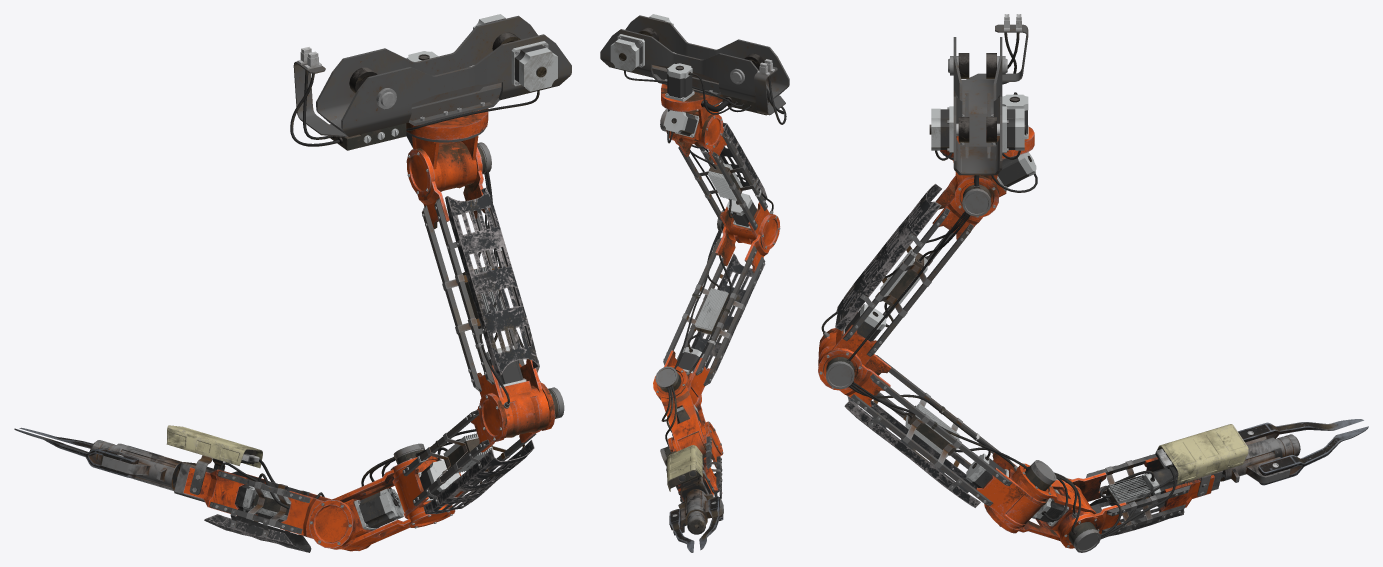
File: robotic_arm.glb
3 views of the same model, side by side, from view 1: azimuth 30°, elevation 25°; view 2: azimuth 150°, elevation 25°; view 3: azimuth 270°, elevation 25° (orthographic). The views are drawn at different scales.
Visible parts, largest first — view 1: Cylinder.036_4, Cylinder.037_13, Cylinder.039_7, Cylinder.034_11, Cylinder.064_9, Cylinder.052_6, Cylinder.038_15; view 2: Cylinder.036_4, Cylinder.034_11, Cylinder.037_13, Cylinder.039_7, Cylinder.064_9, Cylinder.052_6, Cylinder.038_15; view 3: Cylinder.034_11, Cylinder.037_13, Cylinder.039_7, Cylinder.036_4, Cylinder.052_6, Cylinder.064_9, Cylinder.038_15.
Boxes of the visible parts, x1,y1,x2,y2 form: Cylinder.036_4: [290, 14, 571, 150]; Cylinder.037_13: [406, 142, 558, 437]; Cylinder.039_7: [166, 425, 370, 552]; Cylinder.034_11: [392, 382, 564, 518]; Cylinder.064_9: [330, 443, 455, 551]; Cylinder.052_6: [14, 427, 181, 490]; Cylinder.038_15: [406, 128, 485, 191]; Cylinder.036_4: [600, 14, 789, 124]; Cylinder.034_11: [656, 209, 780, 406]; Cylinder.037_13: [660, 109, 773, 244]; Cylinder.039_7: [660, 421, 723, 502]; Cylinder.064_9: [653, 365, 706, 456]; Cylinder.052_6: [669, 489, 723, 552]; Cylinder.038_15: [663, 101, 722, 146]; Cylinder.034_11: [818, 328, 1051, 528]; Cylinder.037_13: [818, 173, 999, 371]; Cylinder.039_7: [1058, 424, 1248, 552]; Cylinder.036_4: [929, 14, 1034, 175]; Cylinder.052_6: [1220, 419, 1368, 485]; Cylinder.064_9: [984, 460, 1096, 545]; Cylinder.038_15: [940, 151, 1037, 199].
Bounding box in the file's own units: 0.9691 × 1.52 × 1.51.
Materials: 2 (2 with a texture image).
